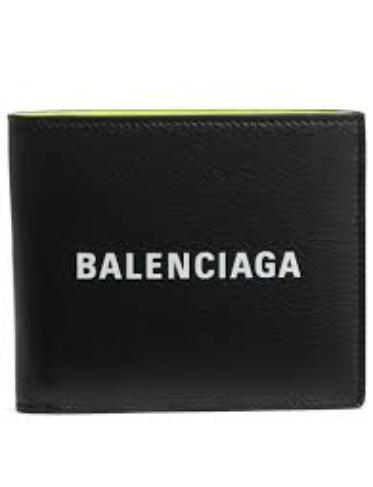BALENCIAGA: (72, 245, 302, 281)
